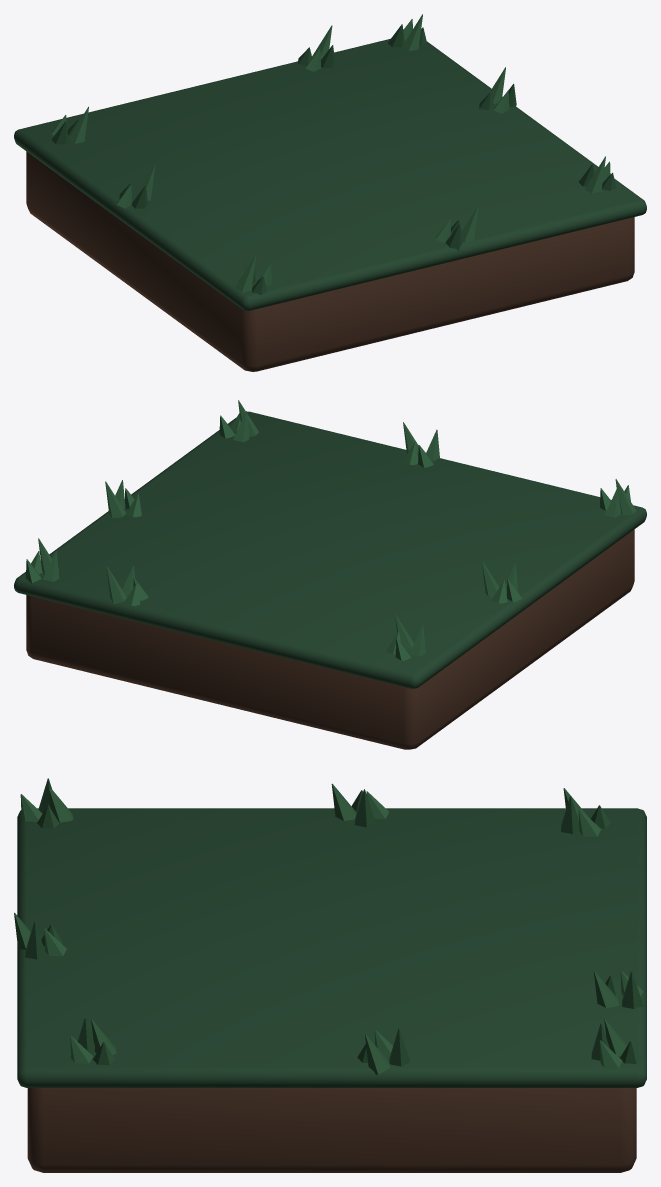
File: SueloRecto.fbx
3 views of the same model, one above another, from view 1: azimuth 30°, elevation 25°; view 2: azimuth 150°, elevation 25°; view 3: azimuth 270°, elevation 25° (orthographic). The views are drawn at different scales.
Parts seen in each view (by area): view 1: SueloRecto_Pasto, SueloRecto_Tierra, SueloRecto_Matas; view 2: SueloRecto_Pasto, SueloRecto_Tierra, SueloRecto_Matas; view 3: SueloRecto_Pasto, SueloRecto_Tierra, SueloRecto_Matas.
Part boxes in pixels (bbox=[...]): SueloRecto_Pasto: bbox=[14, 39, 646, 310]; SueloRecto_Tierra: bbox=[26, 151, 634, 371]; SueloRecto_Matas: bbox=[51, 14, 616, 295]; SueloRecto_Pasto: bbox=[14, 411, 646, 688]; SueloRecto_Tierra: bbox=[26, 529, 634, 749]; SueloRecto_Matas: bbox=[26, 400, 636, 660]; SueloRecto_Pasto: bbox=[17, 808, 646, 1087]; SueloRecto_Tierra: bbox=[27, 1088, 636, 1172]; SueloRecto_Matas: bbox=[14, 778, 643, 1074].
Size of the model in its own units: 12.25 by 3.28 by 12.26.
